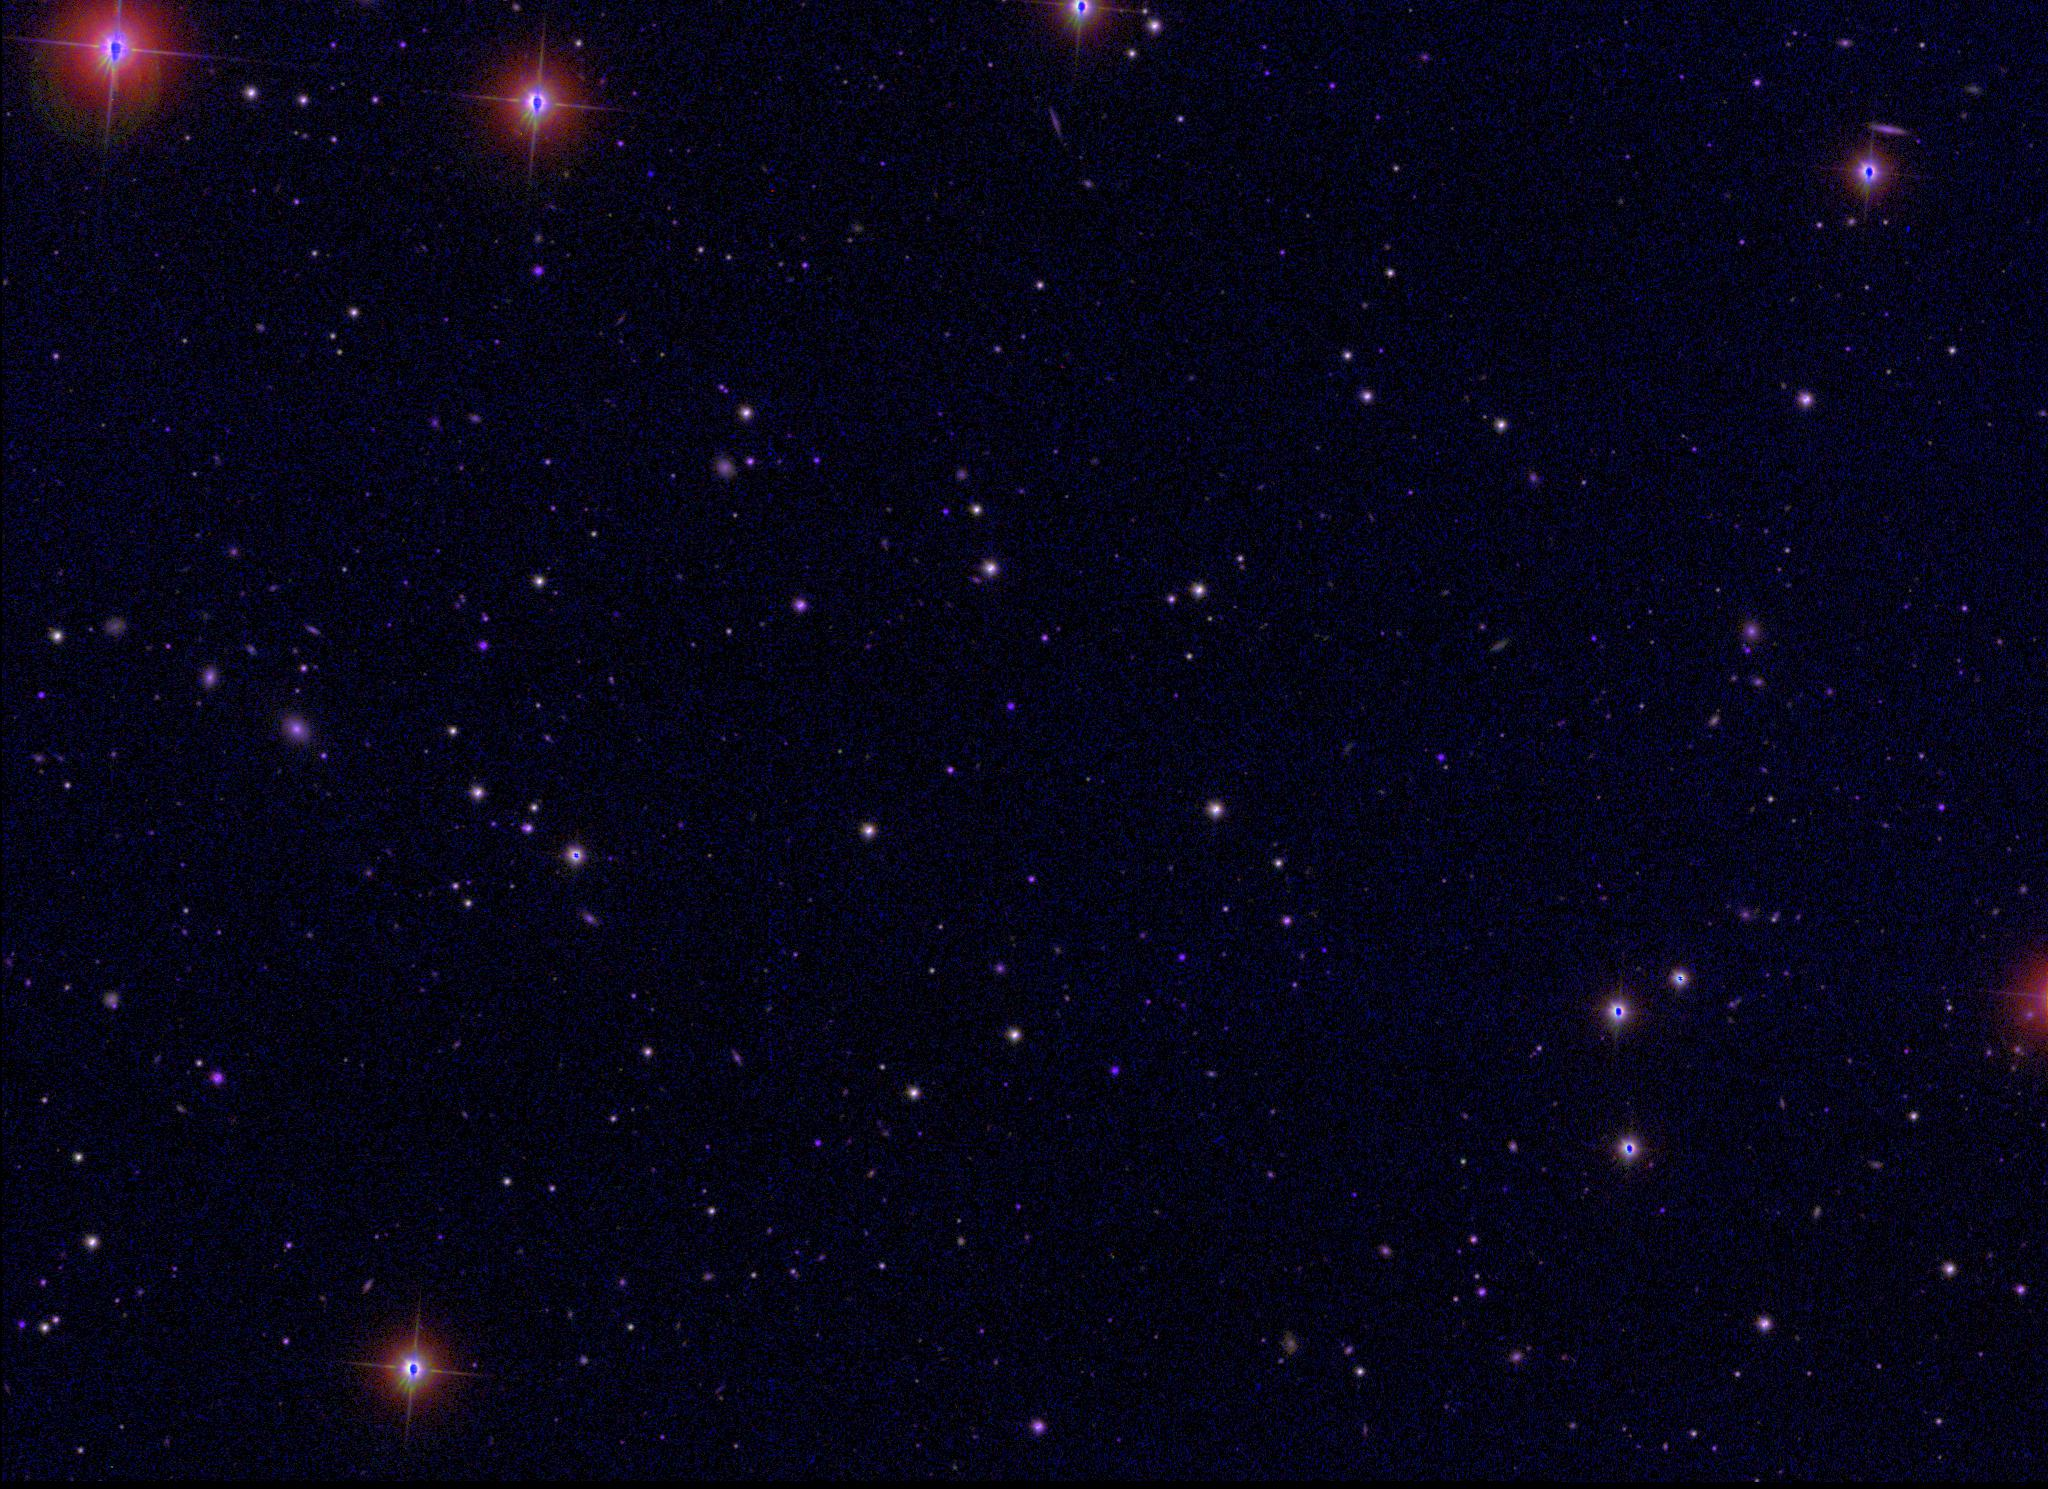L: (644, 165, 658, 180)
